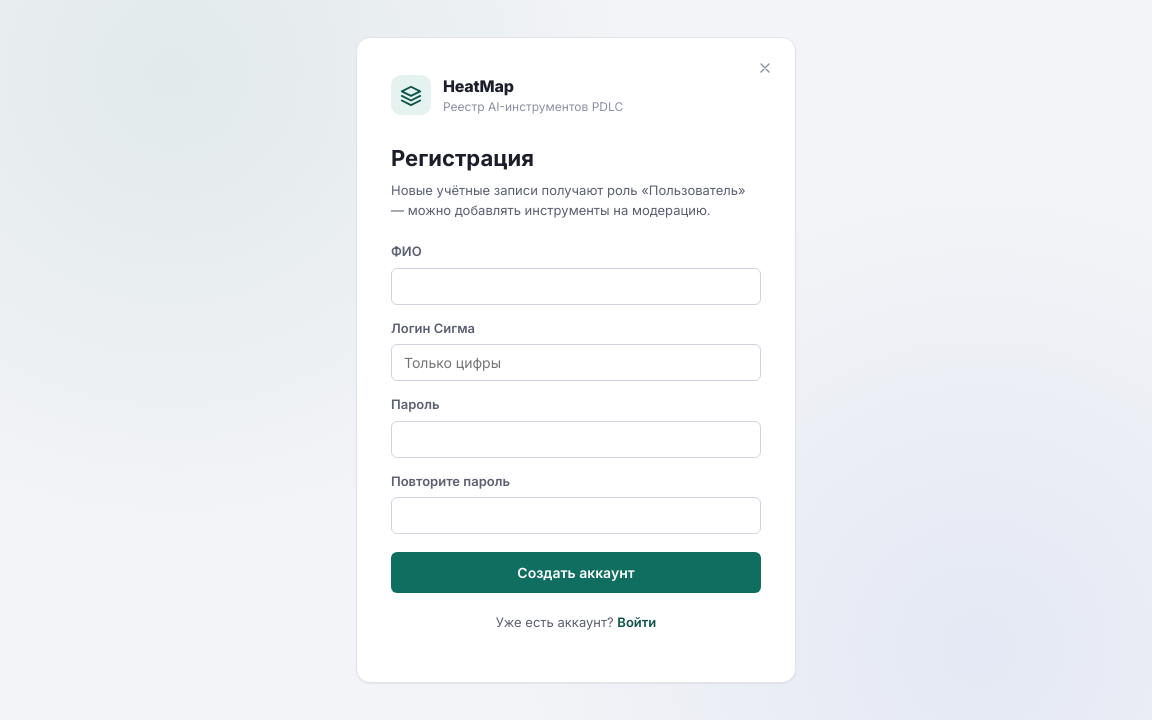
Scenario: RegisterView › rejects a mismatched password confirmation
Type "Новый Пользователь" into the field with id "fullName" at (576, 286), box [391,268,761,305]
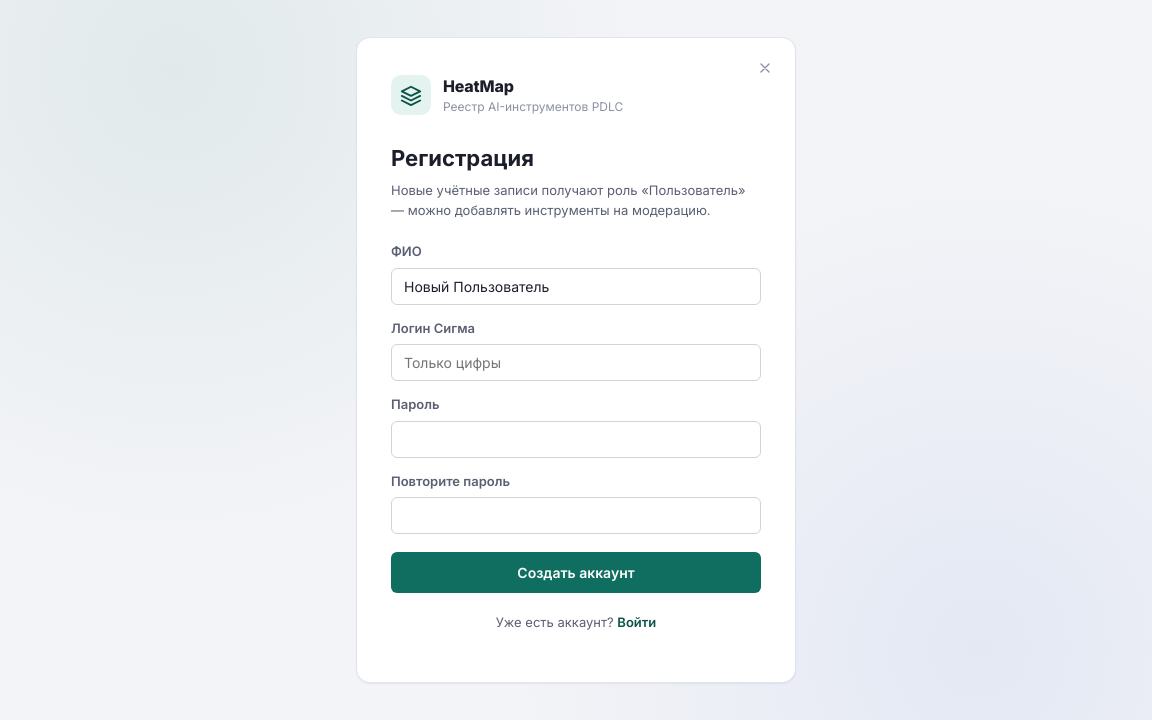
Type "2000" into the field with id "username" at (576, 363), box [391,344,761,381]
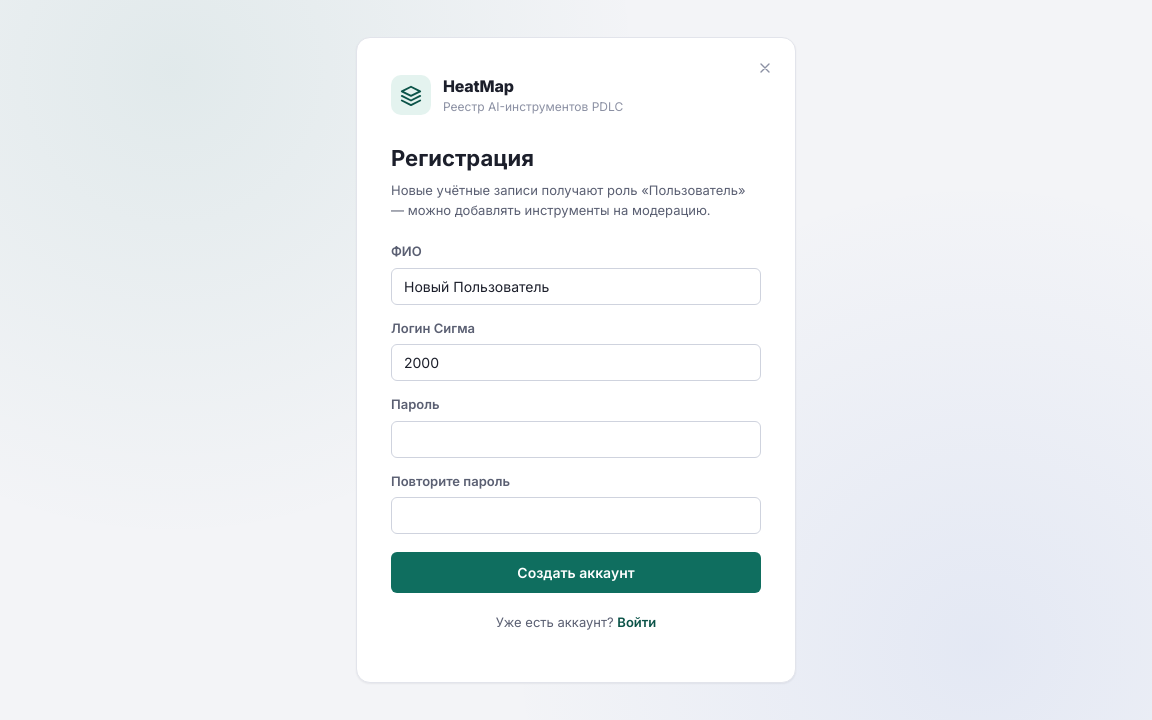
Type "pass123" into the password field labelled "Пароль" at (576, 439), box [391,421,761,458]
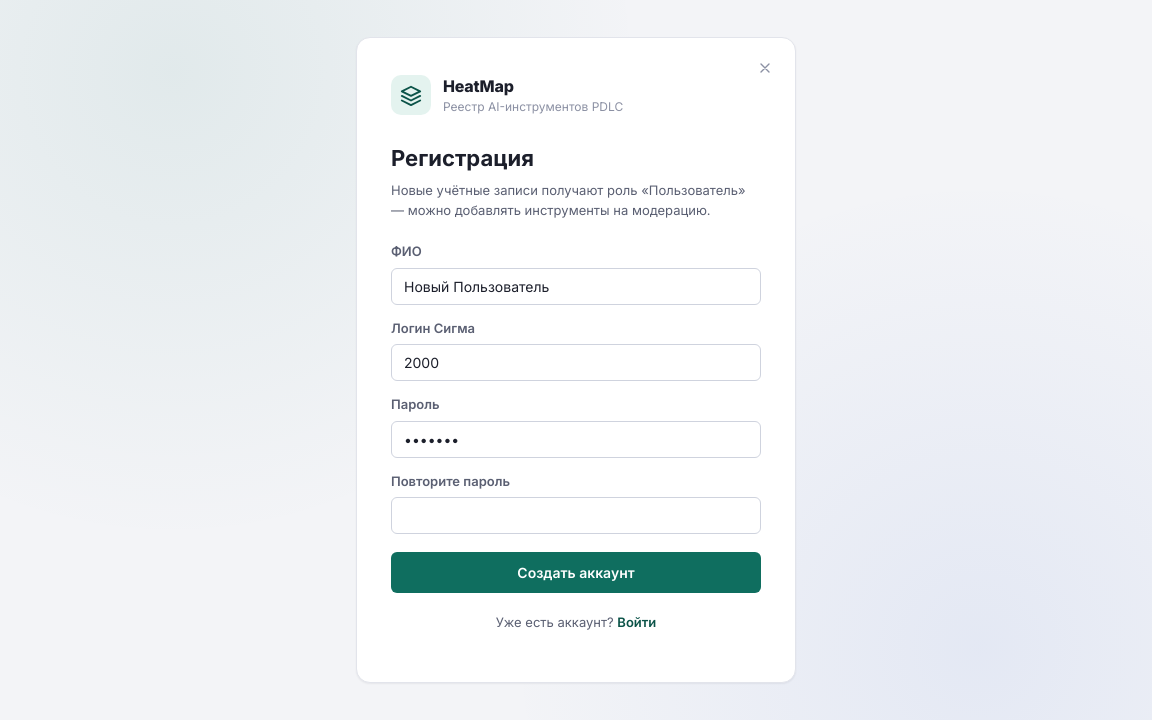
Type "different1" into the password field with id "confirmPassword" at (576, 516), box [391,497,761,534]
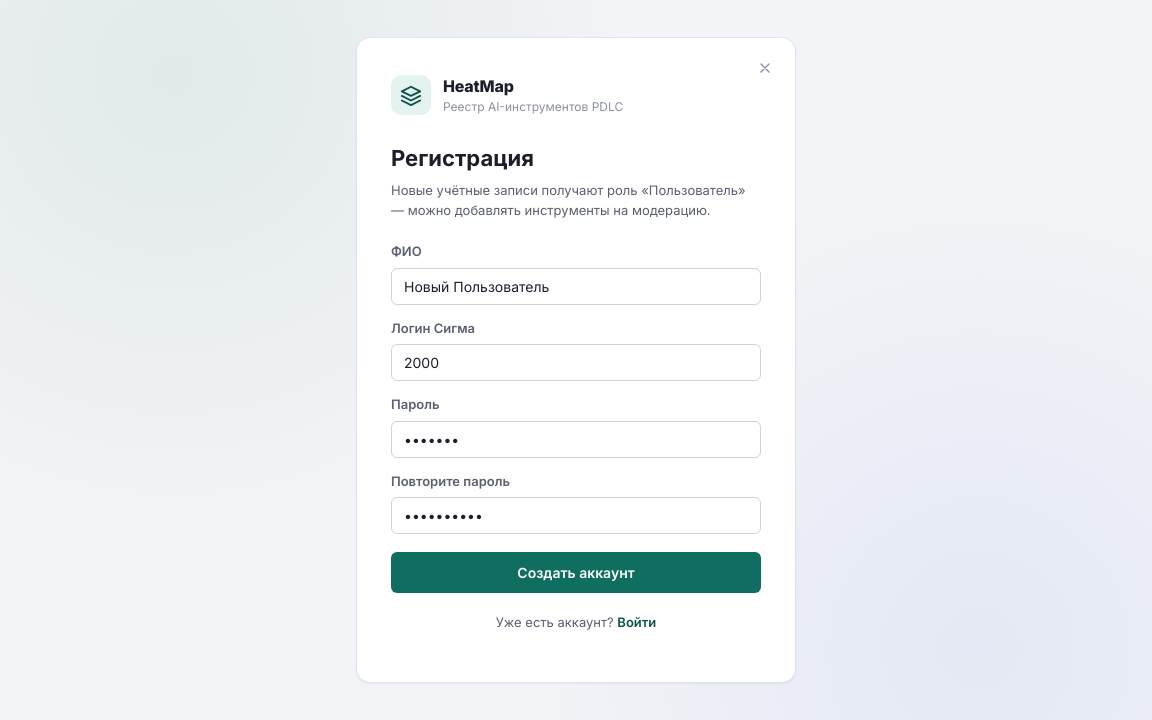
Submit the form, box [391,242,761,593]
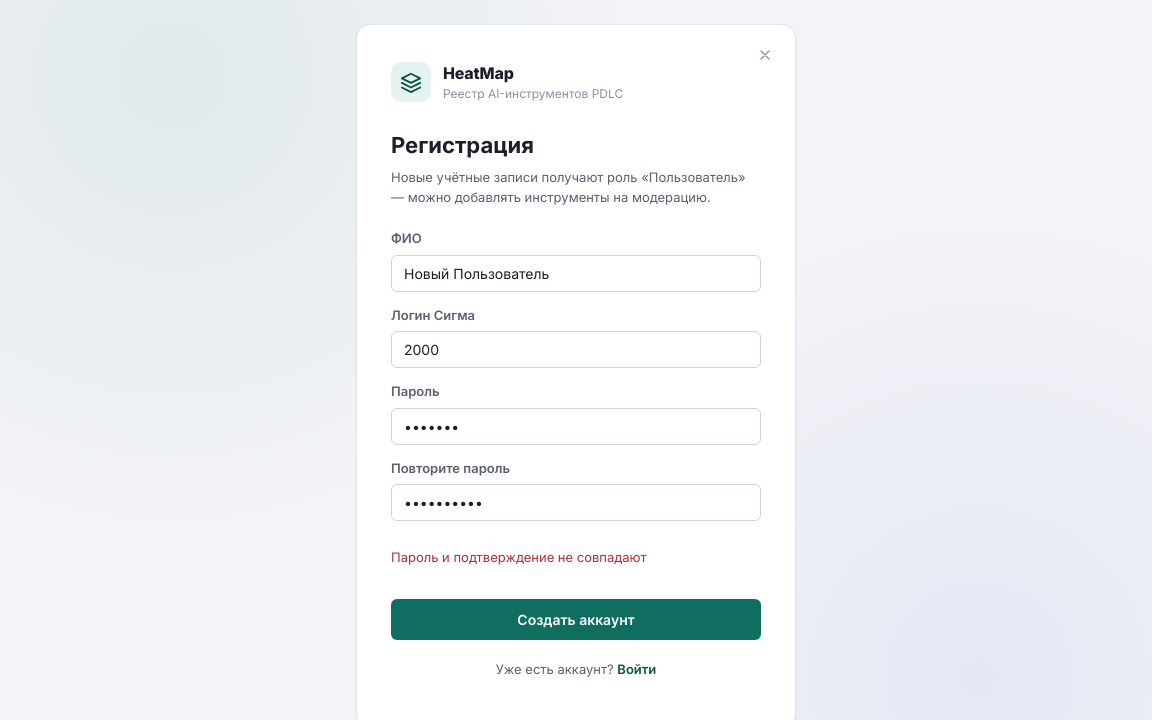
Now the text with class "error-text" reads "Пароль и подтверждение не совпадают", box [391,549,646,565]
